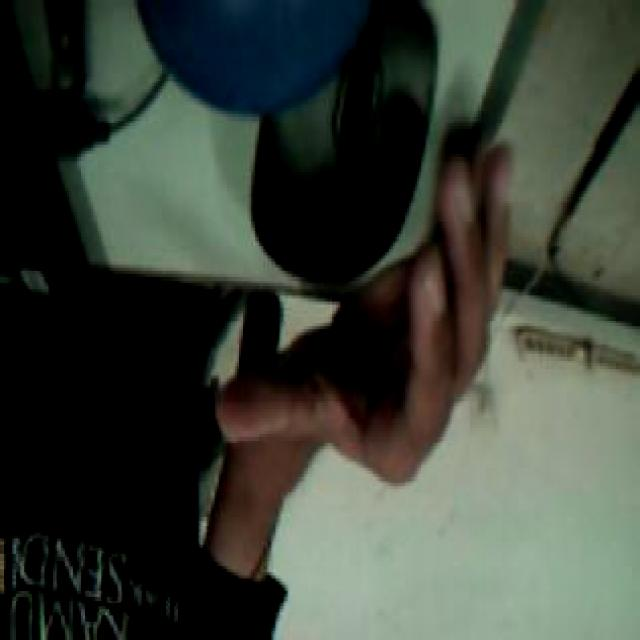BallPurple: (136, 0, 372, 112)
